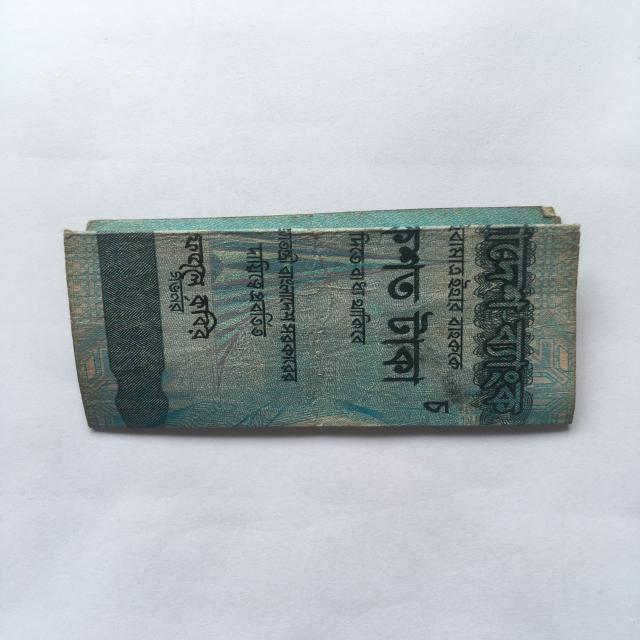Taka: (57, 205, 582, 445)
